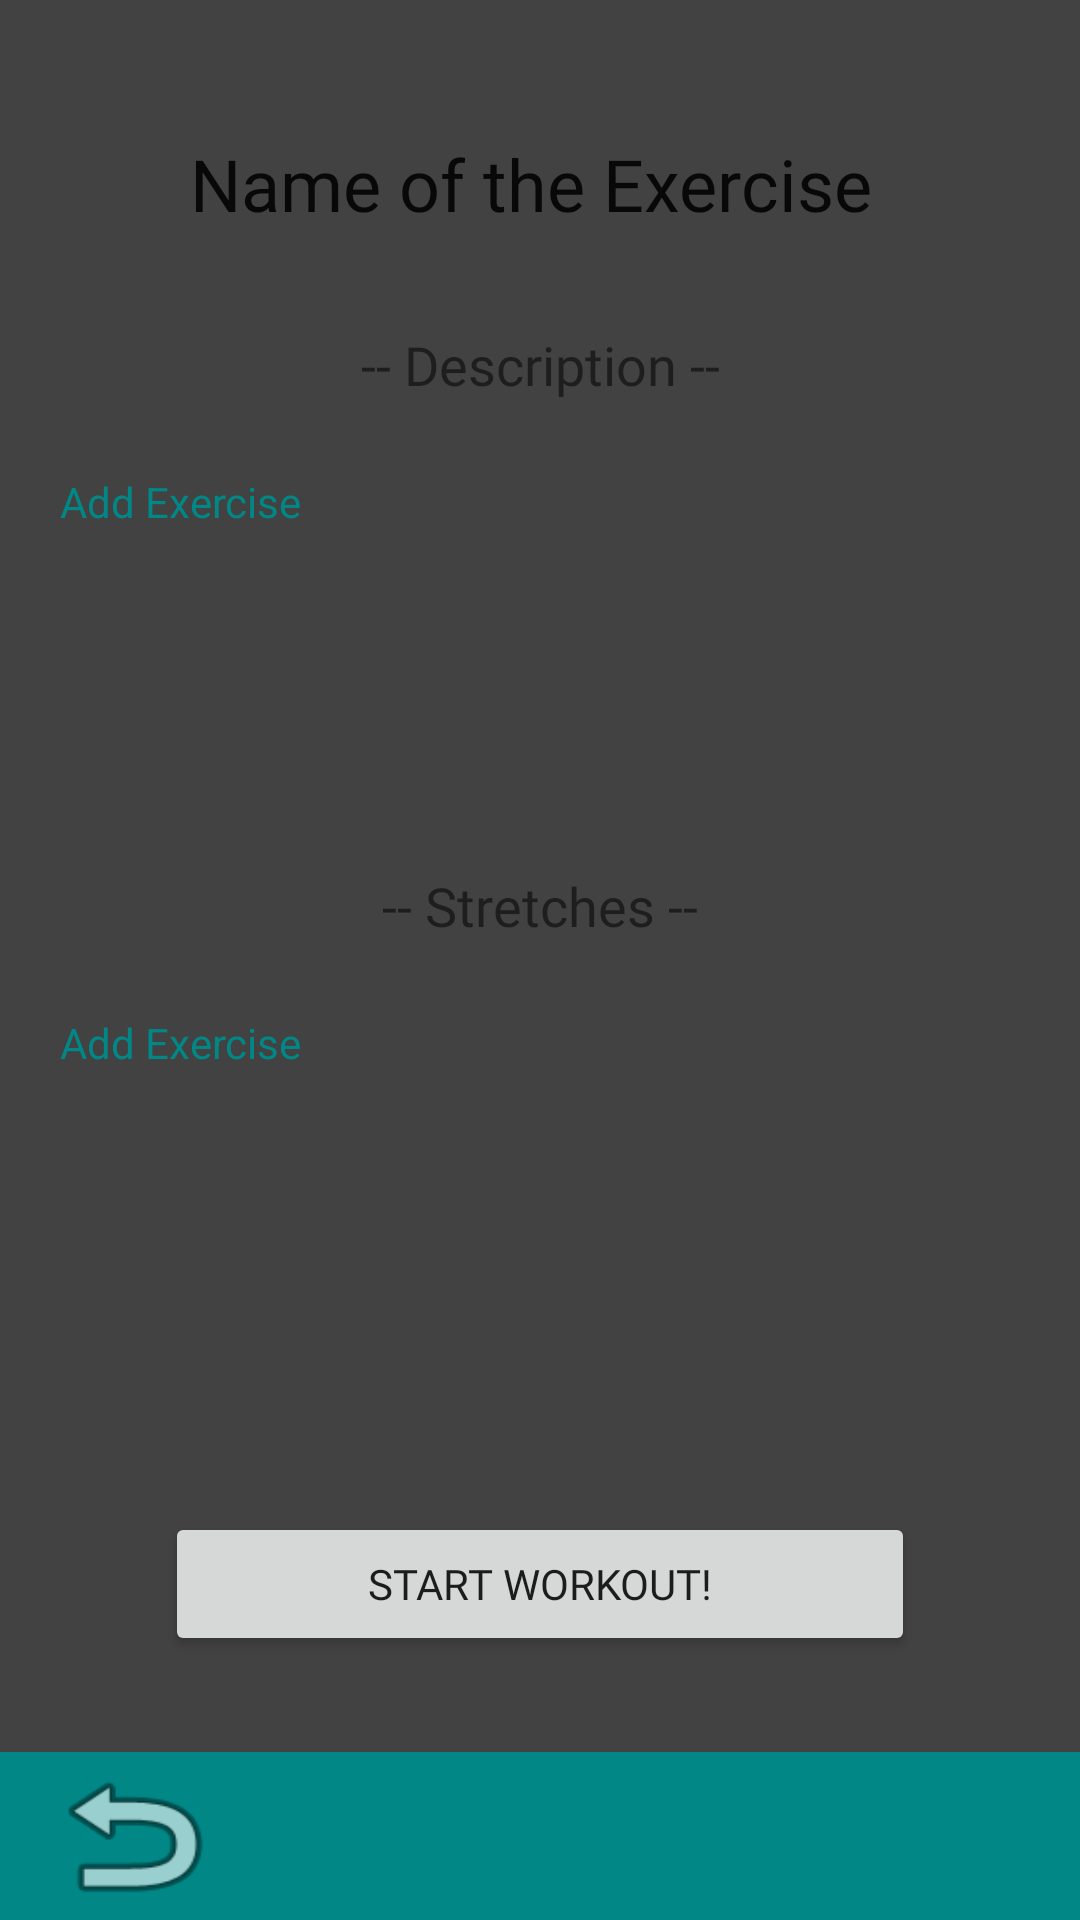

Named icons in this screenshot (1080×1920) and their centers, (x=x, y=y):
revert: (x=135, y=1837)
